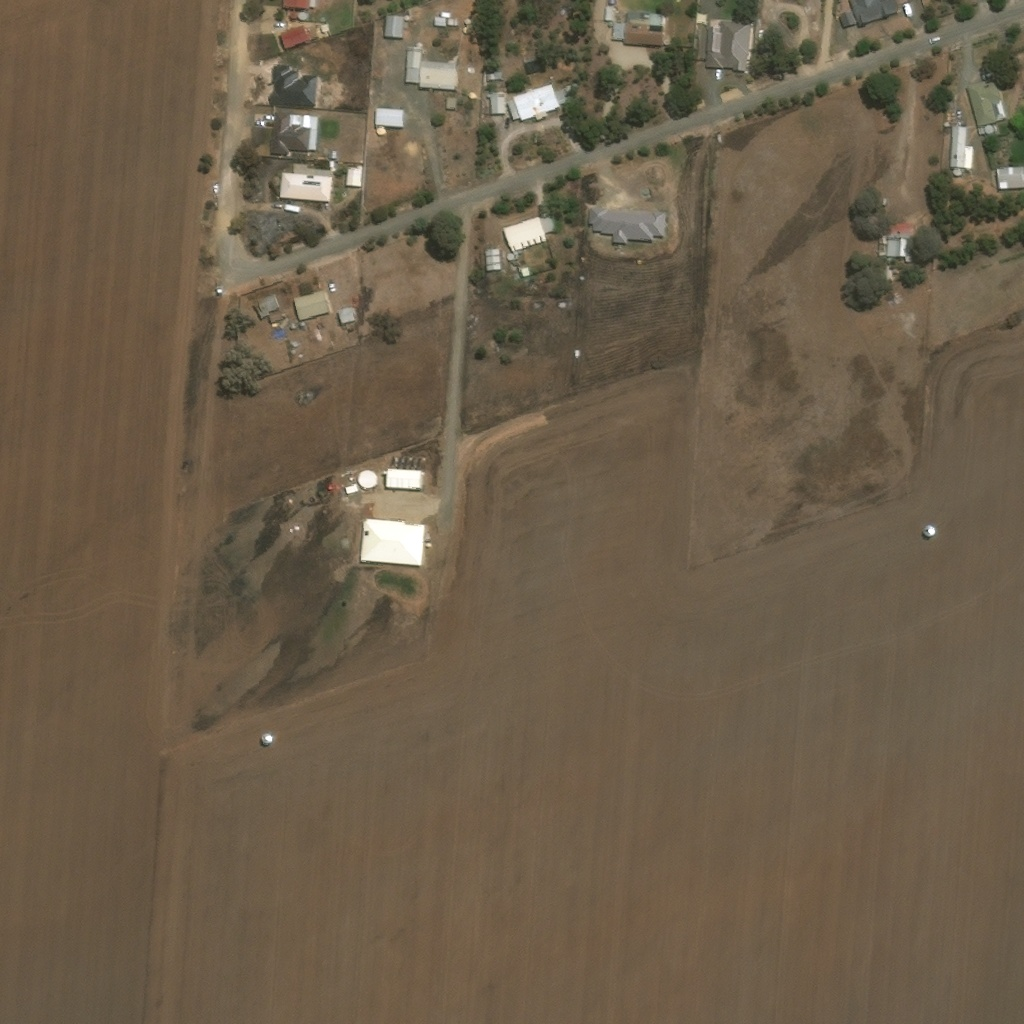0 no-damage: (360, 518, 425, 564), (705, 21, 753, 72), (506, 83, 560, 121), (964, 81, 1008, 127), (270, 112, 309, 154), (279, 172, 332, 201), (504, 217, 546, 252), (418, 61, 456, 91), (293, 290, 329, 320), (886, 222, 912, 262), (949, 125, 972, 168), (387, 466, 423, 487), (280, 25, 307, 49), (996, 167, 1023, 189), (376, 106, 404, 127), (405, 50, 421, 84), (258, 293, 281, 315), (486, 90, 504, 114), (384, 14, 402, 37), (484, 248, 501, 271), (358, 470, 377, 487), (337, 307, 356, 324), (346, 168, 361, 186), (267, 311, 283, 324), (977, 124, 993, 135), (695, 13, 706, 27), (445, 97, 456, 110), (346, 482, 358, 493), (434, 17, 445, 27), (447, 19, 457, 26), (953, 169, 961, 177), (375, 127, 384, 134), (289, 11, 297, 18)
4 un-classified: (339, 186, 355, 202)
